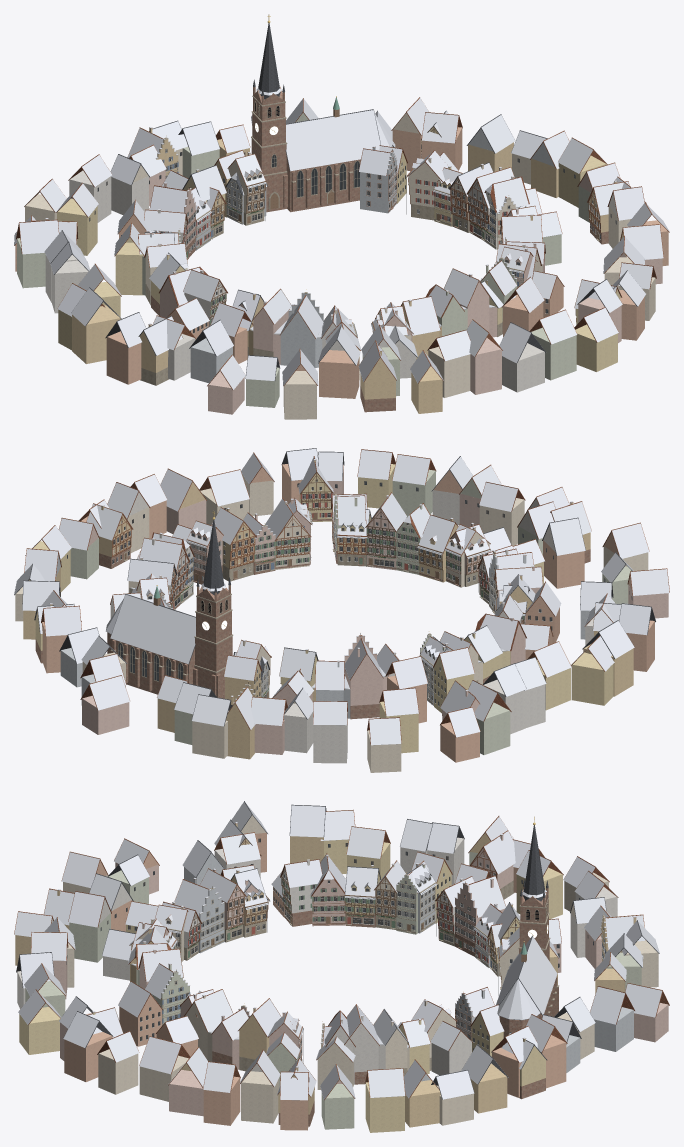
The model's file is town.glb.
The picture shows the model from 3 angles, top to bottom: view 1: azimuth 30°, elevation 25°; view 2: azimuth 150°, elevation 25°; view 3: azimuth 270°, elevation 25°; orthographic projection.
Parts seen in each view (by area): view 1: snow_roofs, snow_skyline, town_stone_red, sky_pl_terracotta, sky_pl_white, sky_pl_cream, sky_pl_ochre, sky_pl_sage, sky_pl_yellow, town_stone_yel, sky_pl_rose, town_pl_blue (+18 smaller); view 2: snow_skyline, snow_roofs, town_stone_red, sky_pl_cream, sky_pl_terracotta, sky_pl_white, sky_pl_sage, sky_pl_yellow, sky_pl_rose, town_pl_rose, town_pl_ochre, town_windows (+20 smaller); view 3: snow_skyline, snow_roofs, sky_pl_cream, sky_pl_terracotta, sky_pl_yellow, town_stone_red, sky_pl_ochre, sky_pl_sage, town_pl_white, town_pl_rose, town_pl_cream, town_stone_yel (+19 smaller).
Part boxes in pixels (bbox=[...]): snow_roofs: bbox=[45, 88, 628, 382]; snow_skyline: bbox=[14, 98, 669, 389]; town_stone_red: bbox=[45, 86, 617, 412]; sky_pl_terracotta: bbox=[15, 127, 668, 398]; sky_pl_white: bbox=[45, 146, 617, 392]; sky_pl_cream: bbox=[25, 113, 655, 419]; sky_pl_ochre: bbox=[72, 139, 625, 413]; sky_pl_sage: bbox=[17, 113, 590, 407]; sky_pl_yellow: bbox=[57, 155, 617, 371]; town_stone_yel: bbox=[140, 95, 599, 385]; sky_pl_rose: bbox=[149, 170, 662, 414]; town_pl_blue: bbox=[150, 147, 396, 368]; snow_skyline: bbox=[14, 448, 669, 745]; snow_roofs: bbox=[37, 457, 627, 729]; town_stone_red: bbox=[35, 459, 590, 719]; sky_pl_cream: bbox=[15, 474, 648, 772]; sky_pl_terracotta: bbox=[42, 464, 654, 762]; sky_pl_white: bbox=[129, 490, 593, 763]; sky_pl_sage: bbox=[70, 469, 631, 754]; sky_pl_yellow: bbox=[33, 464, 613, 753]; sky_pl_rose: bbox=[82, 464, 668, 754]; town_pl_rose: bbox=[188, 496, 540, 720]; town_pl_ochre: bbox=[99, 502, 598, 759]; town_windows: bbox=[112, 479, 552, 705]; snow_skyline: bbox=[14, 802, 662, 1100]; snow_roofs: bbox=[44, 820, 645, 1096]; sky_pl_cream: bbox=[63, 815, 658, 1125]; sky_pl_terracotta: bbox=[64, 832, 566, 1130]; sky_pl_yellow: bbox=[19, 839, 562, 1132]; town_stone_red: bbox=[57, 823, 636, 1126]; sky_pl_ochre: bbox=[15, 833, 625, 1127]; sky_pl_sage: bbox=[25, 852, 641, 1129]; town_pl_white: bbox=[103, 861, 471, 1084]; town_pl_rose: bbox=[139, 835, 561, 1069]; town_pl_cream: bbox=[131, 865, 519, 1089]; town_stone_yel: bbox=[161, 874, 607, 1075].
Size of the model in its own units: 186 by 60.49 by 186.
33 materials, 24 textured.
